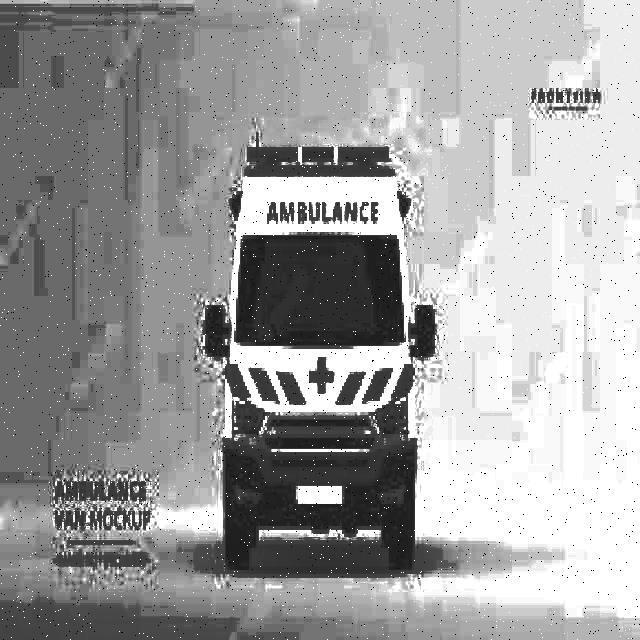LCV: (205, 145, 436, 513)
